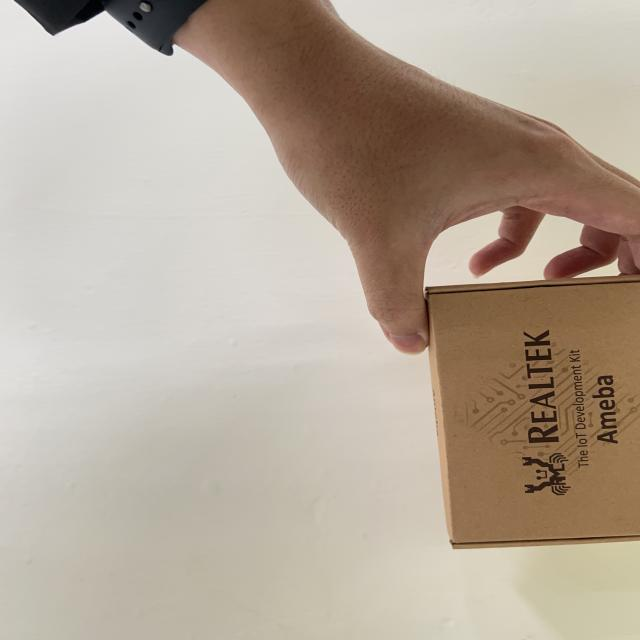box: (400, 270, 640, 572)
